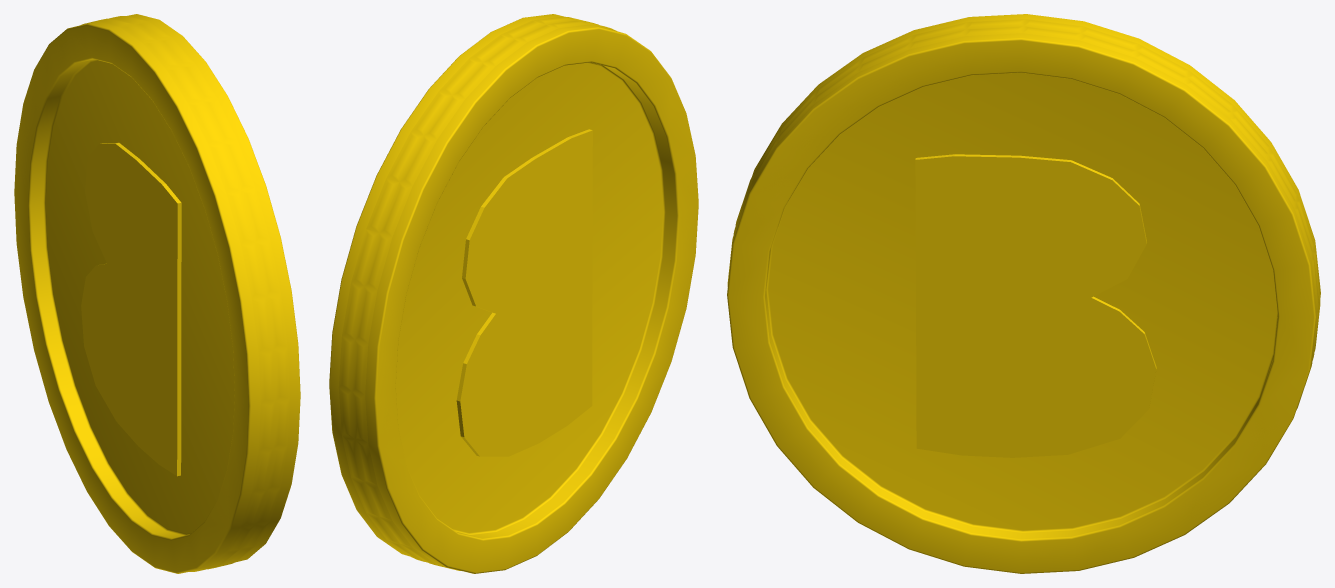
The model's file is coin.fbx.
3 renders of one model, left to right at view 1: azimuth 30°, elevation 25°; view 2: azimuth 150°, elevation 25°; view 3: azimuth 270°, elevation 25°, orthographic. The views are drawn at different scales.
Visible parts, largest first — view 1: Coin; view 2: Coin; view 3: Coin.
Boxes of the visible parts, x1,y1,x2,y2 form: Coin: (14,14,300,573); Coin: (329,14,698,573); Coin: (727,14,1320,573).
Size of the model in its own units: 37.91 by 201 by 201.
